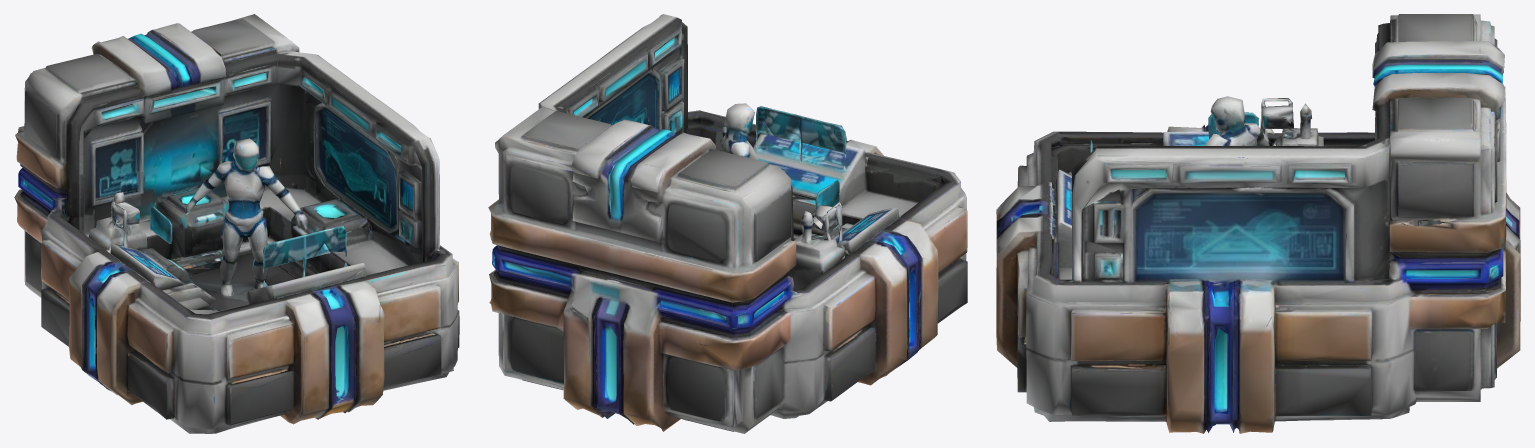
Rendered from research_module.glb.
3 renders of one model, left to right at view 1: azimuth 30°, elevation 25°; view 2: azimuth 150°, elevation 25°; view 3: azimuth 270°, elevation 25°, orthographic. The views are drawn at different scales.
Parts seen in each view (by area): view 1: Mesh1.0; view 2: Mesh1.0; view 3: Mesh1.0.
Part boxes in pixels (x1=…): Mesh1.0: x1=14, y1=14, x2=459, y2=433; Mesh1.0: x1=488, y1=14, x2=967, y2=433; Mesh1.0: x1=996, y1=14, x2=1520, y2=433.
Size of the model in its own units: 1.61 by 1.16 by 1.91.
1 material, 1 textured.
